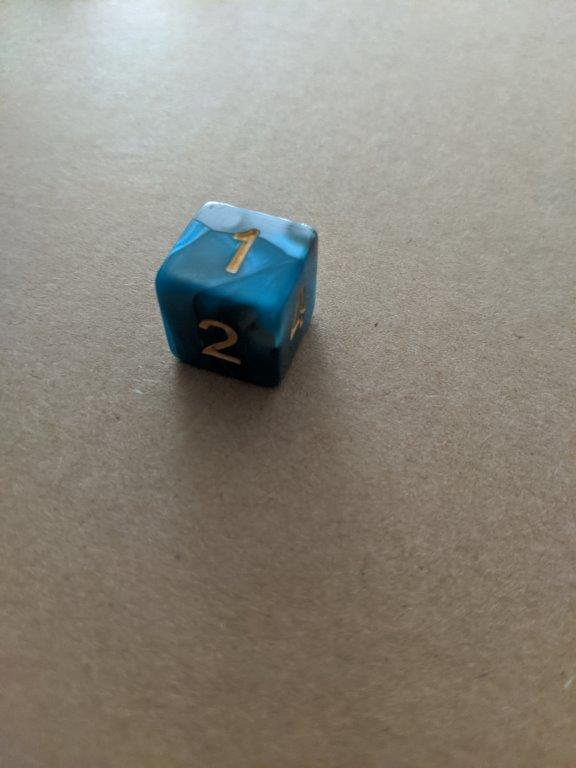d6-1: (152, 200, 320, 388)
